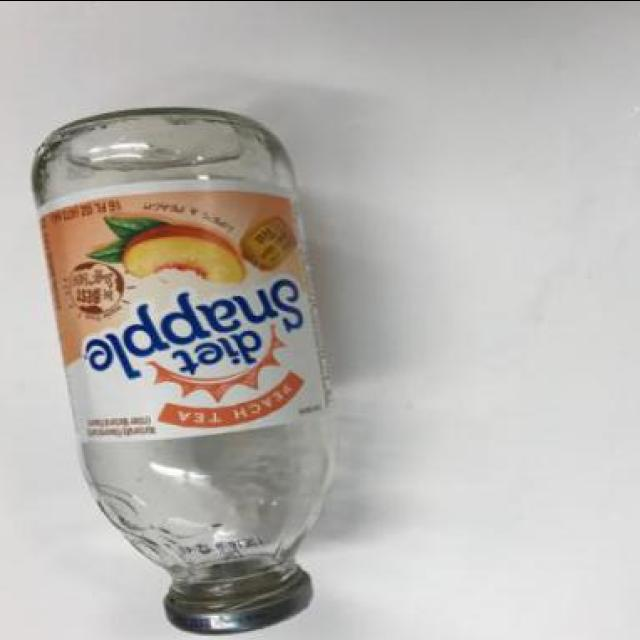kaca: (30, 107, 335, 607)
